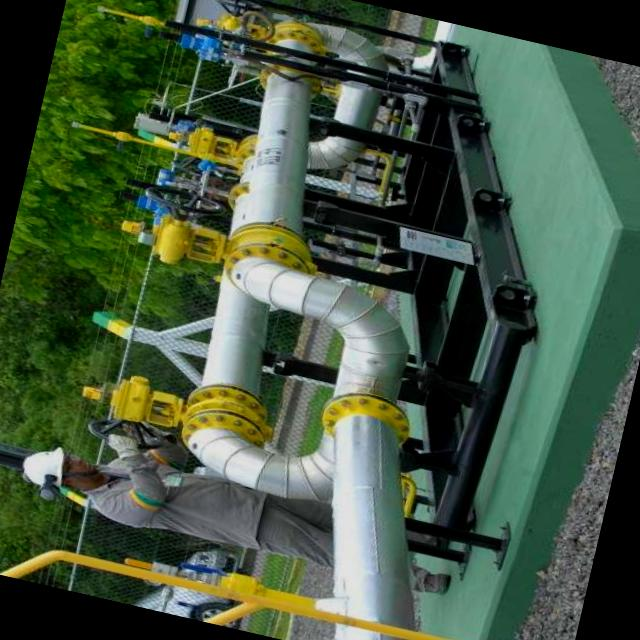gas: (281, 398, 478, 640), (218, 30, 354, 261), (224, 254, 411, 404), (182, 292, 282, 429), (186, 424, 337, 501)
